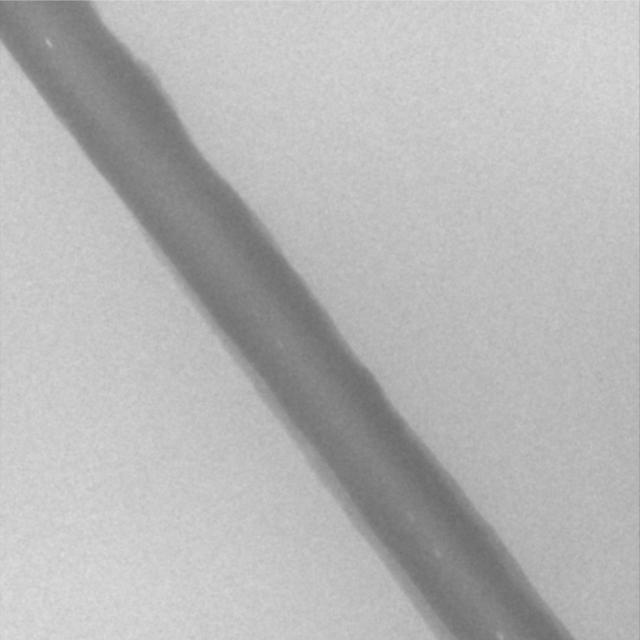air hole: (44, 37, 53, 49)
